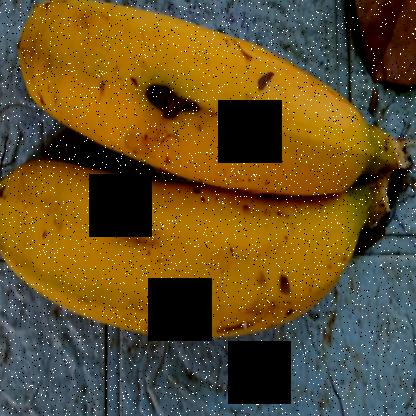freshripe: (0, 151, 369, 352)
ripe: (1, 1, 379, 203)
